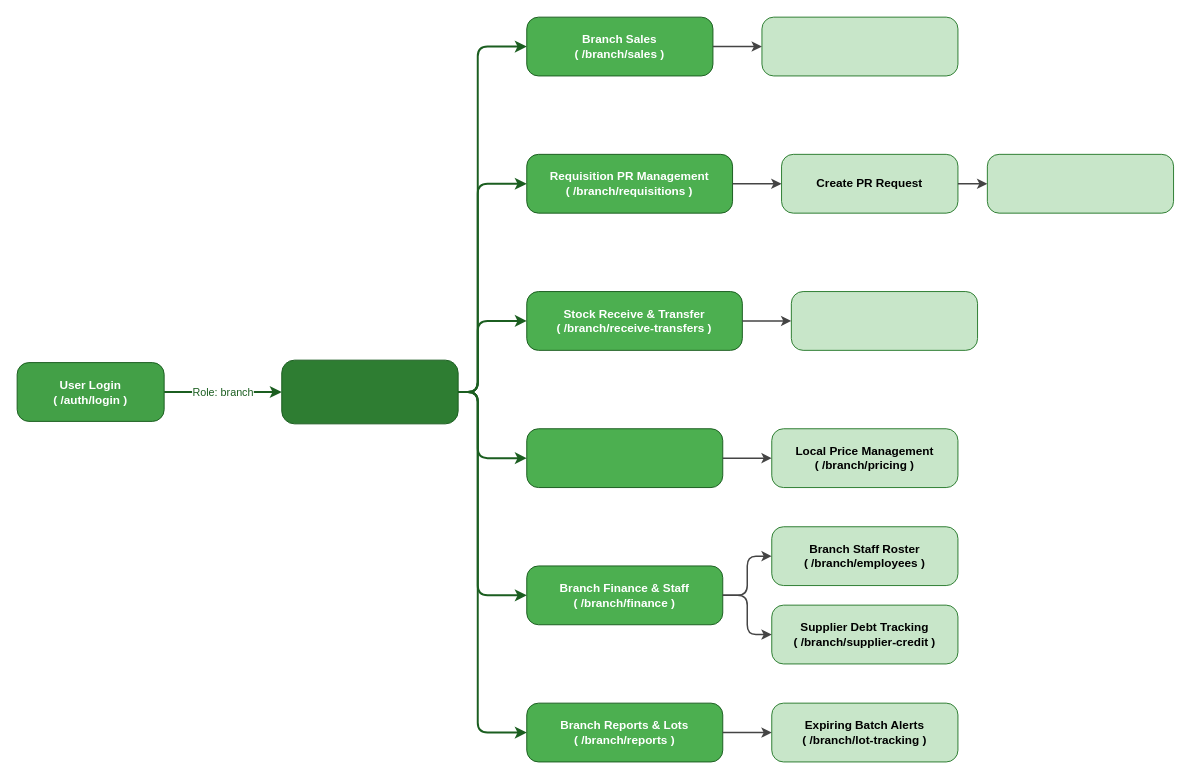
This 1191x779 diagram has some shape labels left out. The shapes that lost their labels are listed below. From the top down, each one's box as (x1, y1, x2, y2) in pixels, then its label:
(761, 16, 958, 76): Branch Orders & Receipts
(986, 153, 1174, 213): PR HQ Approval Status
(790, 291, 978, 350): Confirm Goods Received
(281, 359, 458, 424): Branch Dashboard ( /branch )
(526, 428, 723, 488): Branch Stock & Pricing ( /branch/inventory )
